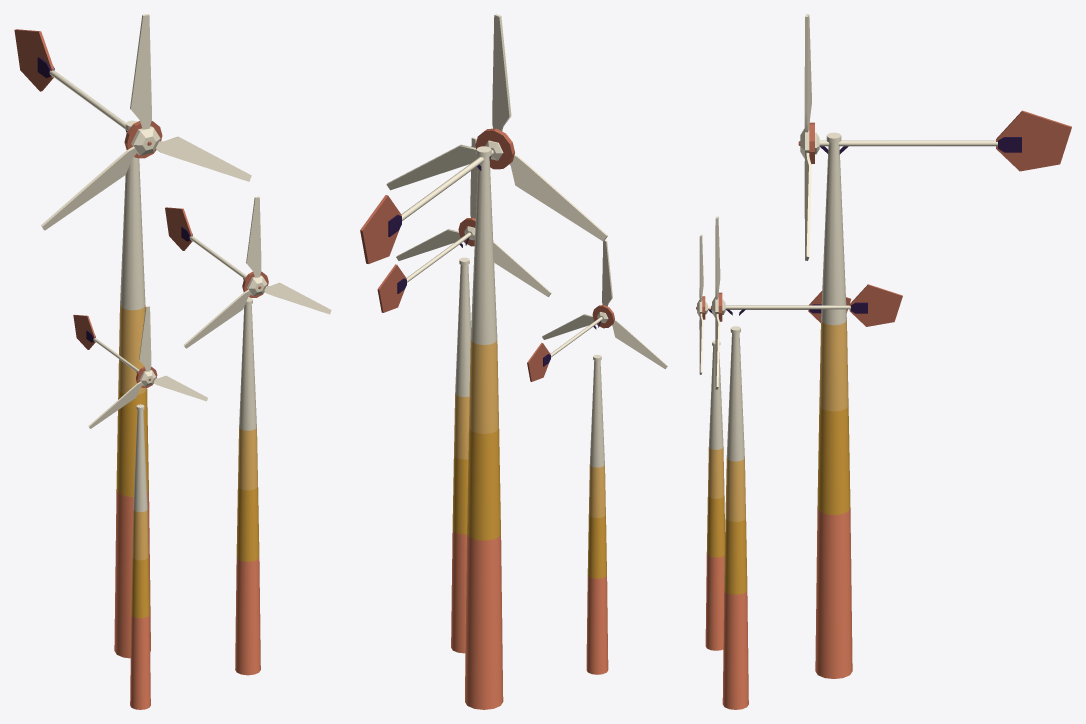
Rendered from M_Windmill_Var1_3.fbx.
3 views of the same model, side by side, from view 1: azimuth 30°, elevation 25°; view 2: azimuth 150°, elevation 25°; view 3: azimuth 270°, elevation 25° (orthographic). The views are drawn at different scales.
Visible parts, largest first — view 1: M_Windmill_Var1_3; view 2: M_Windmill_Var1_3; view 3: M_Windmill_Var1_3.
Part boxes in pixels (x1,y1,x2,y2): M_Windmill_Var1_3: [14, 14, 331, 709]; M_Windmill_Var1_3: [360, 14, 667, 709]; M_Windmill_Var1_3: [696, 14, 1071, 709].
Bounding box in the file's own units: 1.5 × 3.69 × 1.91.
